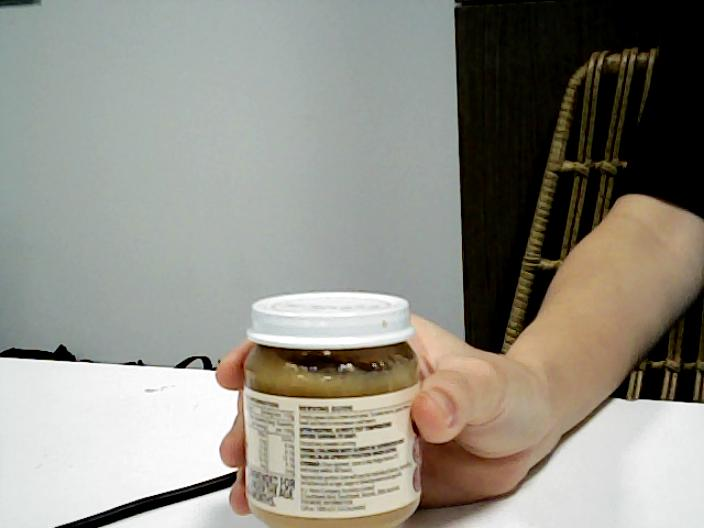Babyfood_100-199g_NonHalal_NonHealthy: (245, 305, 414, 525)
